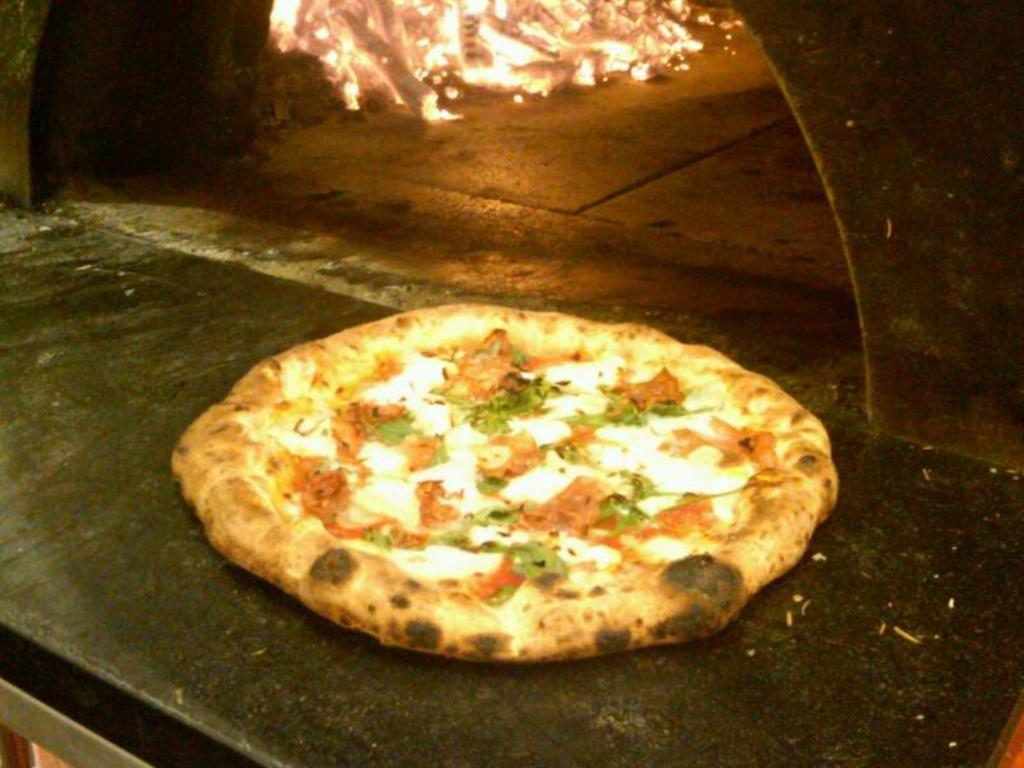Pizza: (156, 304, 823, 688)
